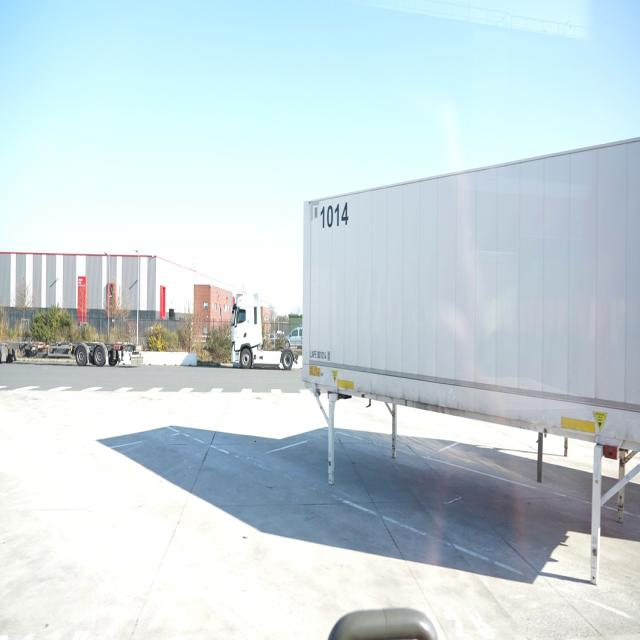Code: (316, 198, 350, 232)
